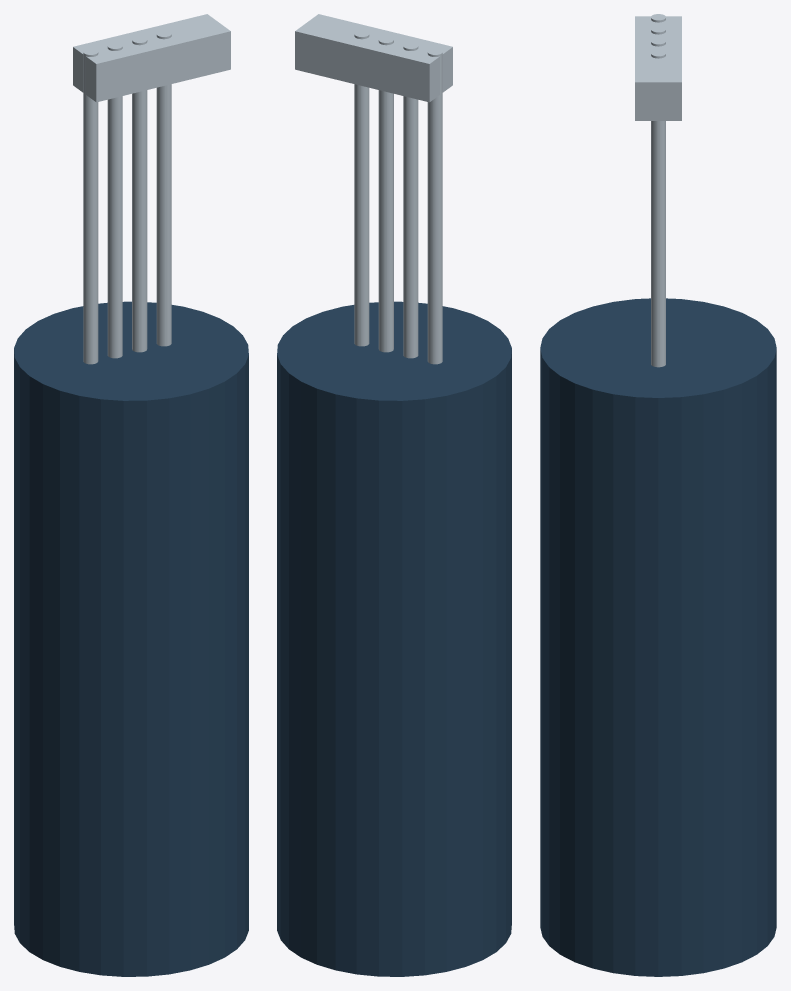
The model's file is caddybot-golf-bag-v1.glb.
The picture shows the model from 3 angles, left to right: view 1: azimuth 30°, elevation 25°; view 2: azimuth 150°, elevation 25°; view 3: azimuth 270°, elevation 25°; orthographic projection.
Visible parts, largest first — view 1: Caddy golf bag.001, Spare club shaft.004, Spare club head.004, Spare club shaft.005, Spare club shaft.006, Spare club shaft.007, Spare club head.005, Spare club head.007, Spare club head.006; view 2: Caddy golf bag.001, Spare club shaft.004, Spare club head.004, Spare club shaft.005, Spare club shaft.006, Spare club shaft.007, Spare club head.005, Spare club head.007, Spare club head.006; view 3: Caddy golf bag.001, Spare club shaft.007, Spare club head.007, Spare club head.004, Spare club head.006, Spare club head.005.
Part boxes in pixels (x1,y1,x2,y2): Caddy golf bag.001: [14, 301, 248, 976]; Spare club shaft.004: [83, 48, 98, 364]; Spare club head.004: [73, 32, 157, 102]; Spare club shaft.005: [107, 42, 122, 358]; Spare club shaft.006: [132, 36, 147, 352]; Spare club shaft.007: [156, 30, 171, 346]; Spare club head.005: [103, 26, 181, 96]; Spare club head.007: [147, 14, 230, 79]; Spare club head.006: [122, 20, 206, 89]; Caddy golf bag.001: [277, 301, 511, 976]; Spare club shaft.004: [427, 48, 442, 364]; Spare club head.004: [368, 32, 452, 102]; Spare club shaft.005: [403, 42, 418, 358]; Spare club shaft.006: [378, 36, 393, 352]; Spare club shaft.007: [354, 30, 369, 346]; Spare club head.005: [344, 26, 424, 96]; Spare club head.007: [295, 14, 374, 83]; Spare club head.006: [319, 20, 402, 87]; Caddy golf bag.001: [540, 298, 776, 976]; Spare club shaft.007: [651, 50, 665, 367]; Spare club head.007: [635, 52, 681, 120]; Spare club head.004: [635, 16, 681, 46]; Spare club head.006: [635, 40, 681, 70]; Spare club head.005: [635, 28, 681, 58].
Bounding box in the file's own units: 0.5 × 2.07 × 0.5.
